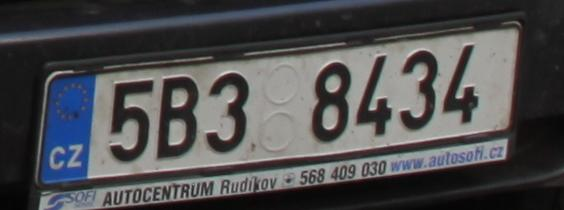3: (207, 73, 251, 154), (401, 49, 437, 132)
4: (355, 52, 392, 138), (444, 47, 482, 125)
5: (106, 76, 153, 163)
8: (308, 58, 354, 146)
B: (154, 75, 201, 160)
